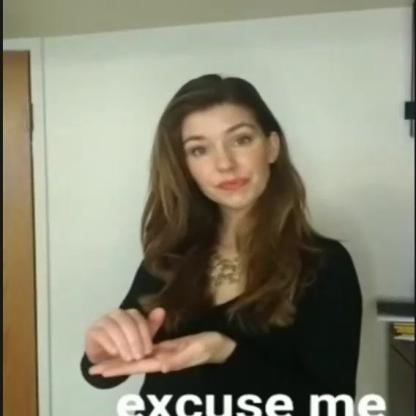ExcuseMe: (65, 295, 238, 406)
